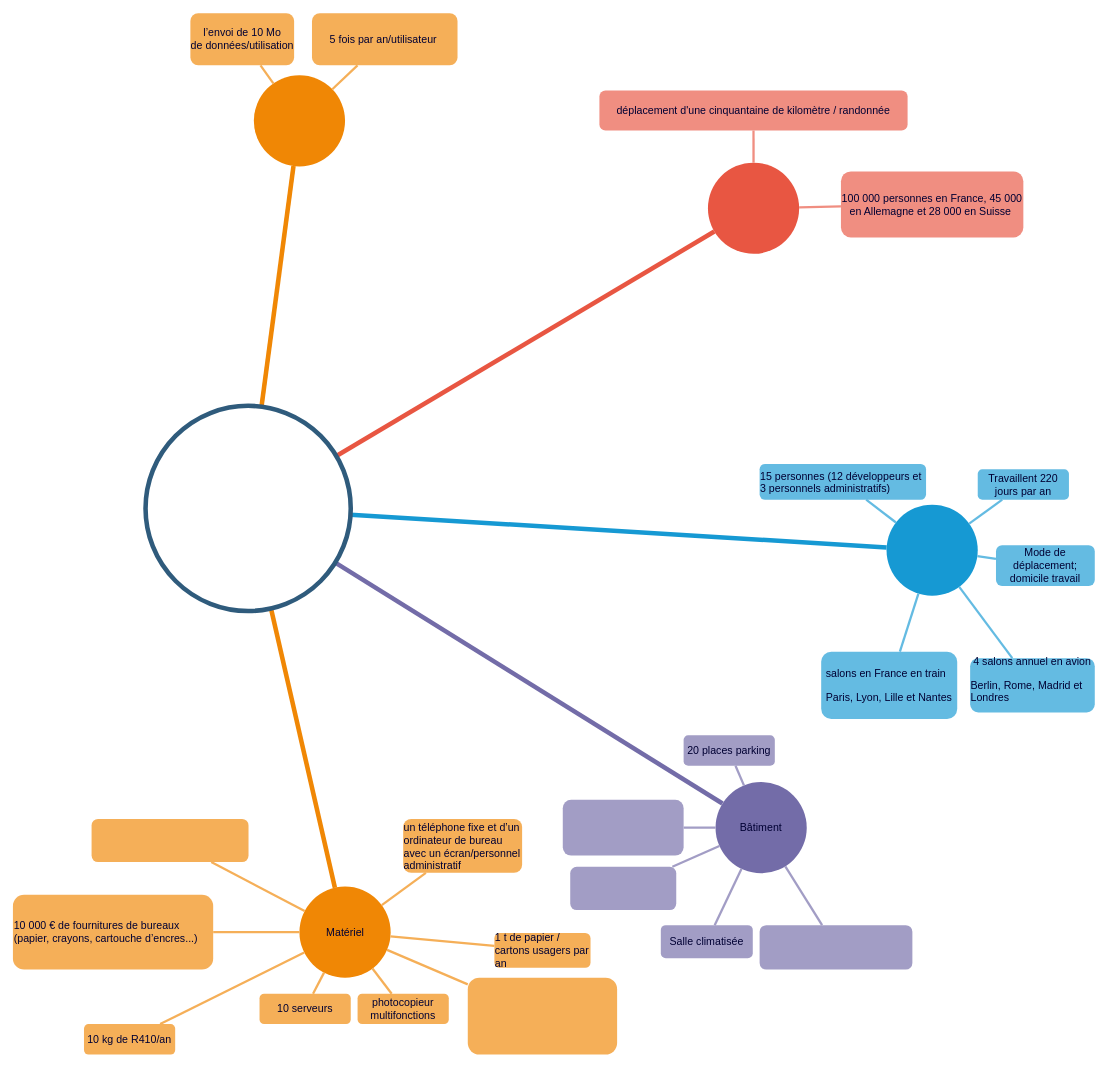
Image size: 1108x1069. Some labels were removed from this diagram. The shapes that lost their labels are listed below. From the top down, each one's centre as x and y in pixels, then its label:
At pixel 299 120: "Application".
At pixel 753 207: "Utilisateurs".
At pixel 248 508: "Trek a bike".
At pixel 931 549: "Personnel".
At pixel 169 840: "un ordinateur portable, 2 écrans 34’’ et un smartphone/dév".
At pixel 622 827: "équipements électriques consomment 850 000 kWh/an".
At pixel 623 888: "chauffés au gaz naturel (90 000 kWh PCS)/an".
At pixel 835 947: "bâtiment industriel de 250 m2".
At pixel 542 1015: "300L ordures ménagères/semaine".
